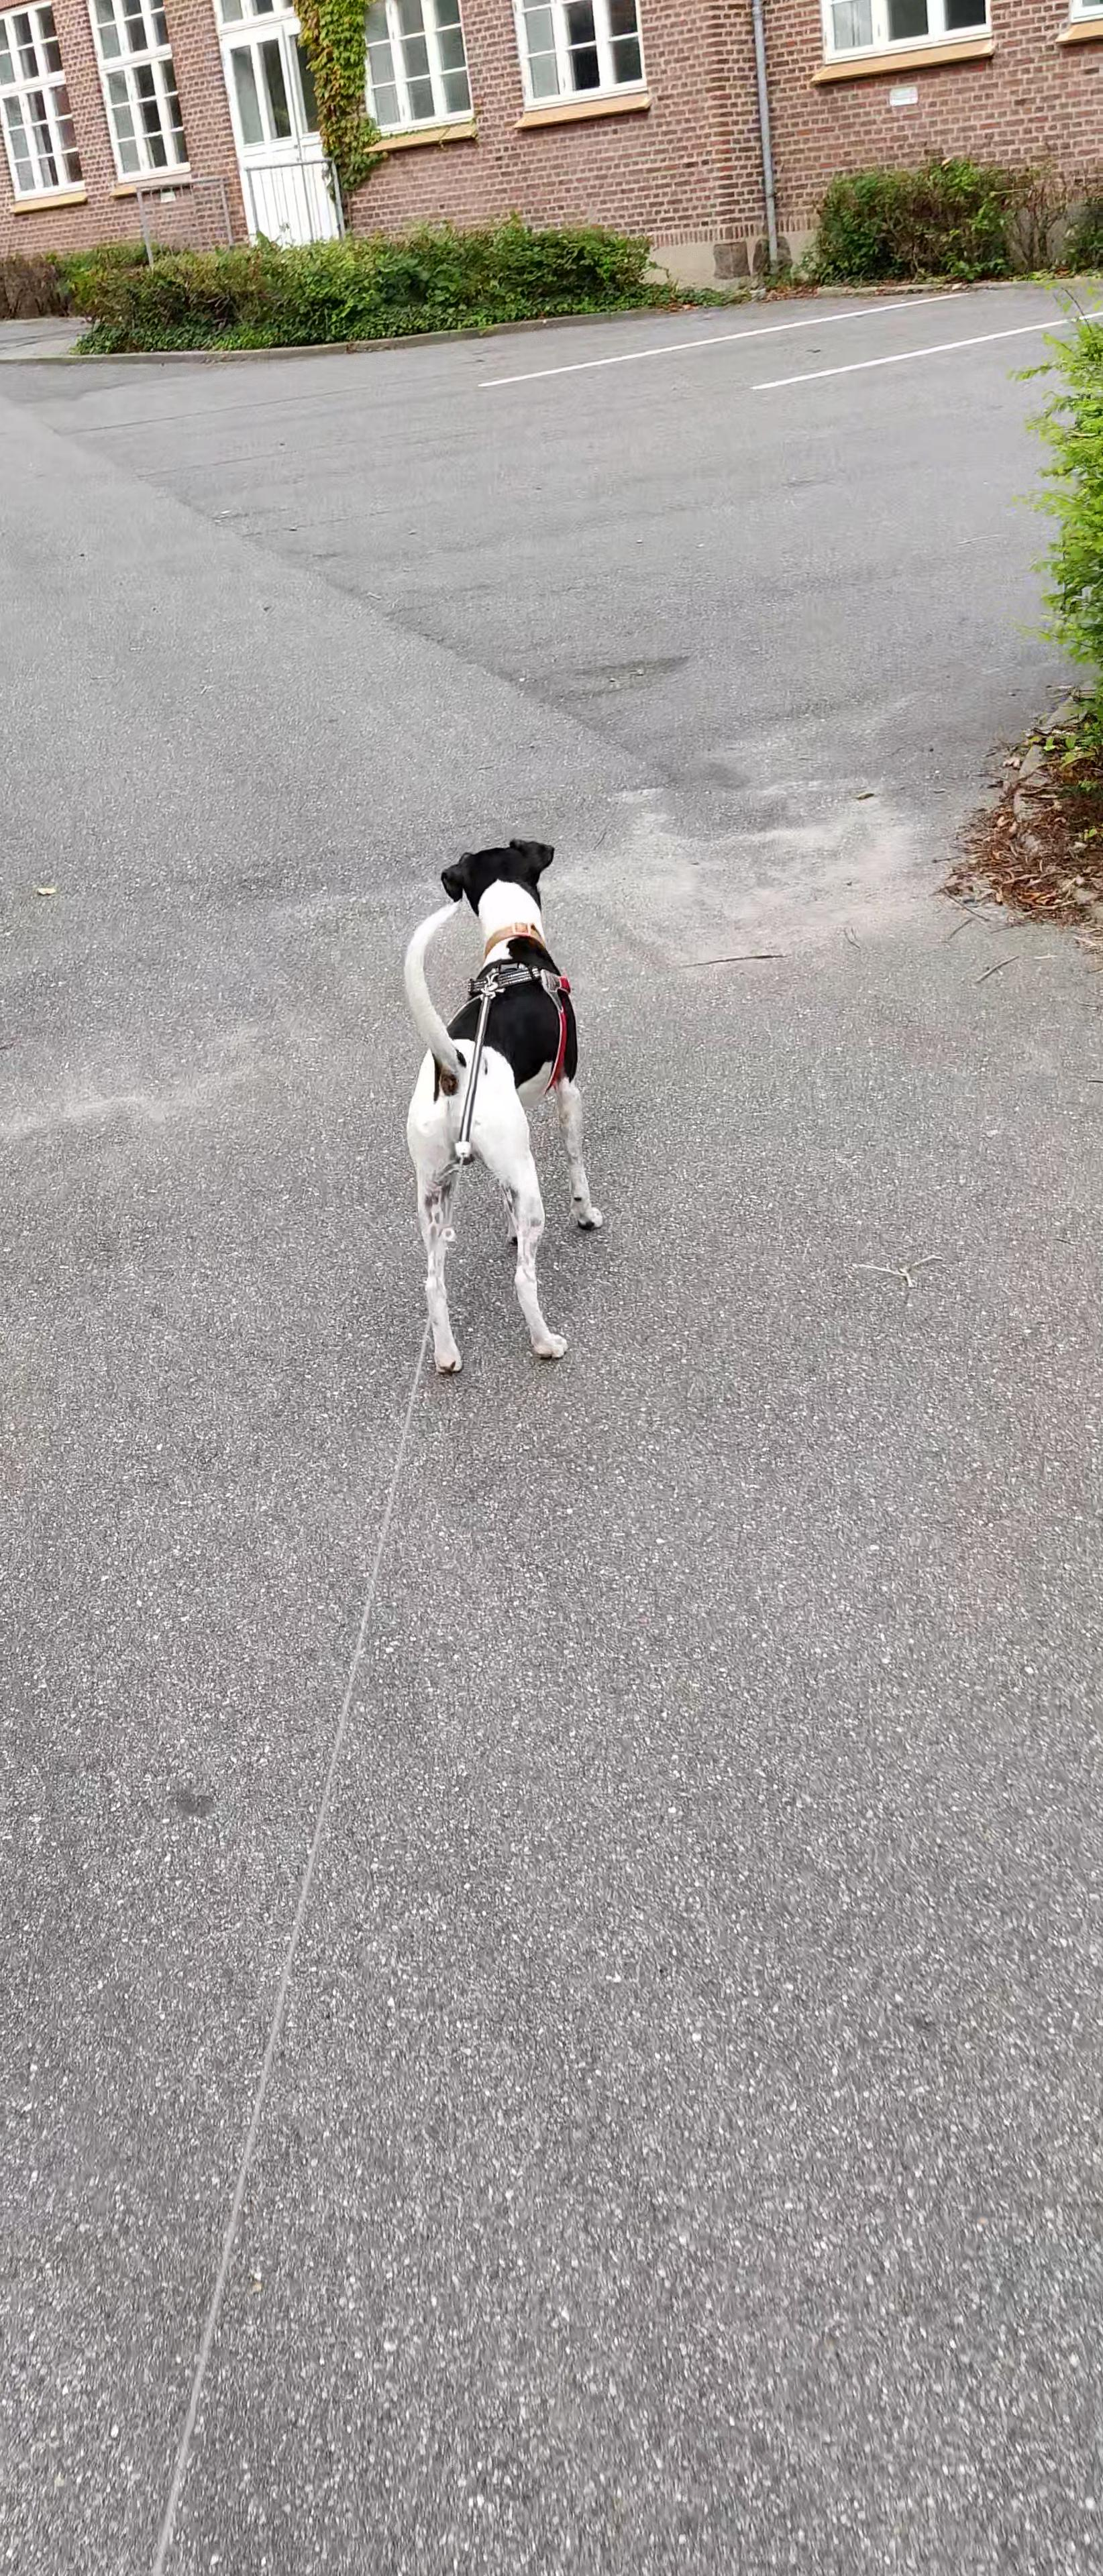Dog: (367, 808, 625, 1403)
